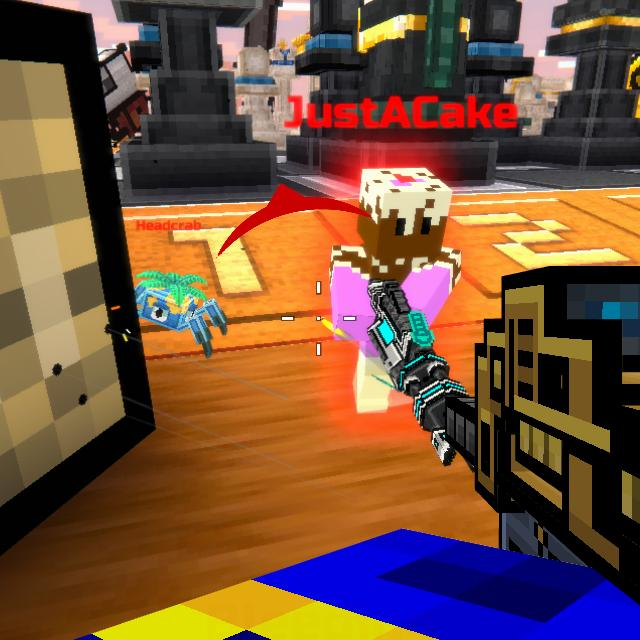Enemy: (328, 168, 465, 416)
